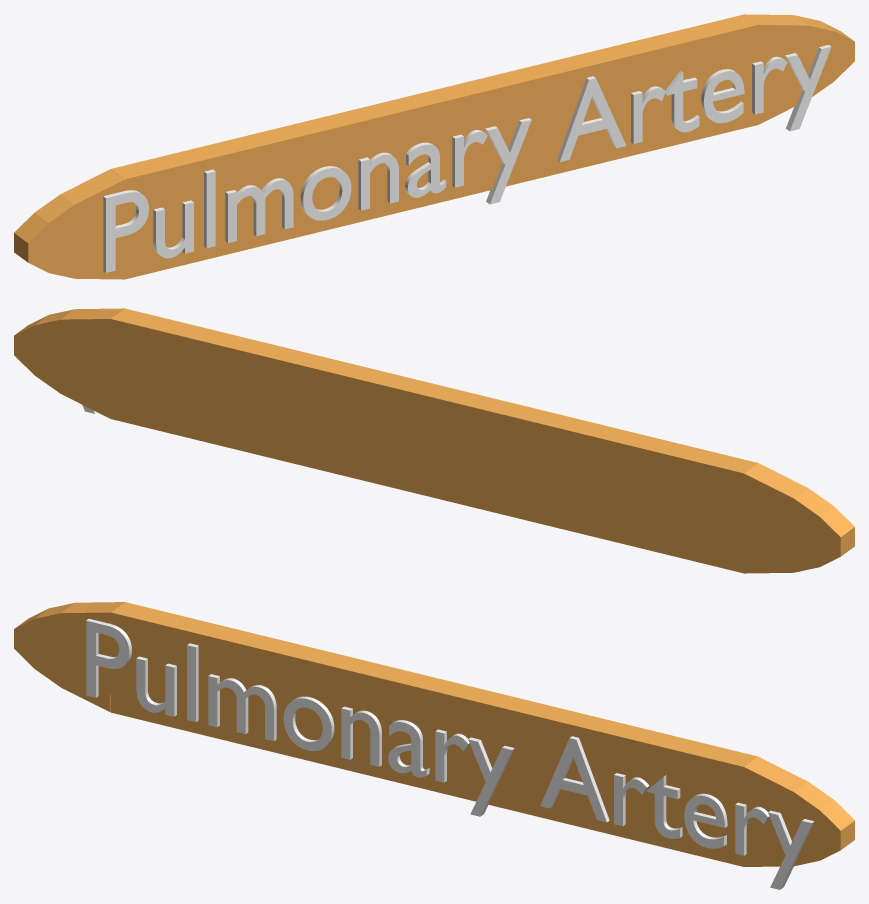
File: txtPulmonaryArtery.fbx
3 renders of one model, top to bottom at view 1: azimuth 30°, elevation 25°; view 2: azimuth 150°, elevation 25°; view 3: azimuth 330°, elevation 25°, orthographic.
Visible parts, largest first — view 1: TagContainer.040, Text.041; view 2: TagContainer.040; view 3: TagContainer.040, Text.041.
Part boxes in pixels (box(x1,y1,x2,y2)): TagContainer.040: box(14, 14, 854, 279); Text.041: box(103, 45, 831, 272); TagContainer.040: box(14, 308, 854, 573); TagContainer.040: box(14, 602, 854, 866); Text.041: box(86, 618, 814, 889).
Size of the model in its own units: 357 by 46.03 by 12.69.
